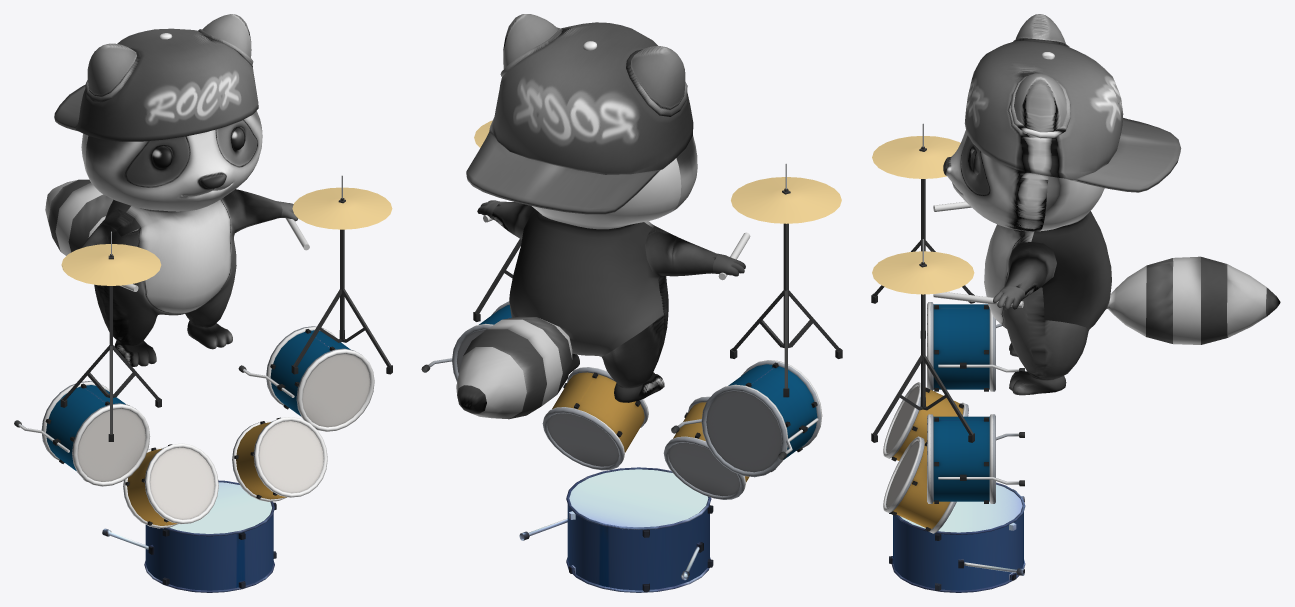
File: raccoon.glb
3 renders of one model, left to right at view 1: azimuth 30°, elevation 25°; view 2: azimuth 150°, elevation 25°; view 3: azimuth 270°, elevation 25°, orthographic. The views are drawn at different scales.
Parts seen in each view (by area): view 1: 0, Circle.005, Circle.004, Circle.003, Cube.004_drum_defaultCol_0; view 2: 0, Circle.003, Circle.005, Circle.004, Cube.004_drum_defaultCol_0; view 3: 0, Circle.005, Circle.003, Cube.004_drum_defaultCol_0, Circle.004, stick_stick_0.
Part boxes in pixels (bbox=[...]): 0: bbox=[45, 14, 297, 366]; Circle.005: bbox=[14, 326, 374, 486]; Circle.004: bbox=[123, 417, 327, 528]; Circle.003: bbox=[102, 480, 276, 592]; Cube.004_drum_defaultCol_0: bbox=[60, 175, 392, 441]; 0: bbox=[456, 14, 745, 419]; Circle.003: bbox=[519, 467, 713, 592]; Circle.005: bbox=[421, 301, 822, 477]; Circle.004: bbox=[542, 367, 749, 499]; Cube.004_drum_defaultCol_0: bbox=[473, 120, 842, 397]; 0: bbox=[943, 14, 1280, 395]; Circle.005: bbox=[927, 302, 1024, 503]; Circle.003: bbox=[889, 482, 1025, 592]; Cube.004_drum_defaultCol_0: bbox=[871, 123, 974, 442]; Circle.004: bbox=[883, 382, 968, 533]; stick_stick_0: bbox=[933, 201, 1023, 307].
Size of the model in its own units: 8.75 by 12.98 by 9.27.
Materials: 4 (3 with a texture image).
